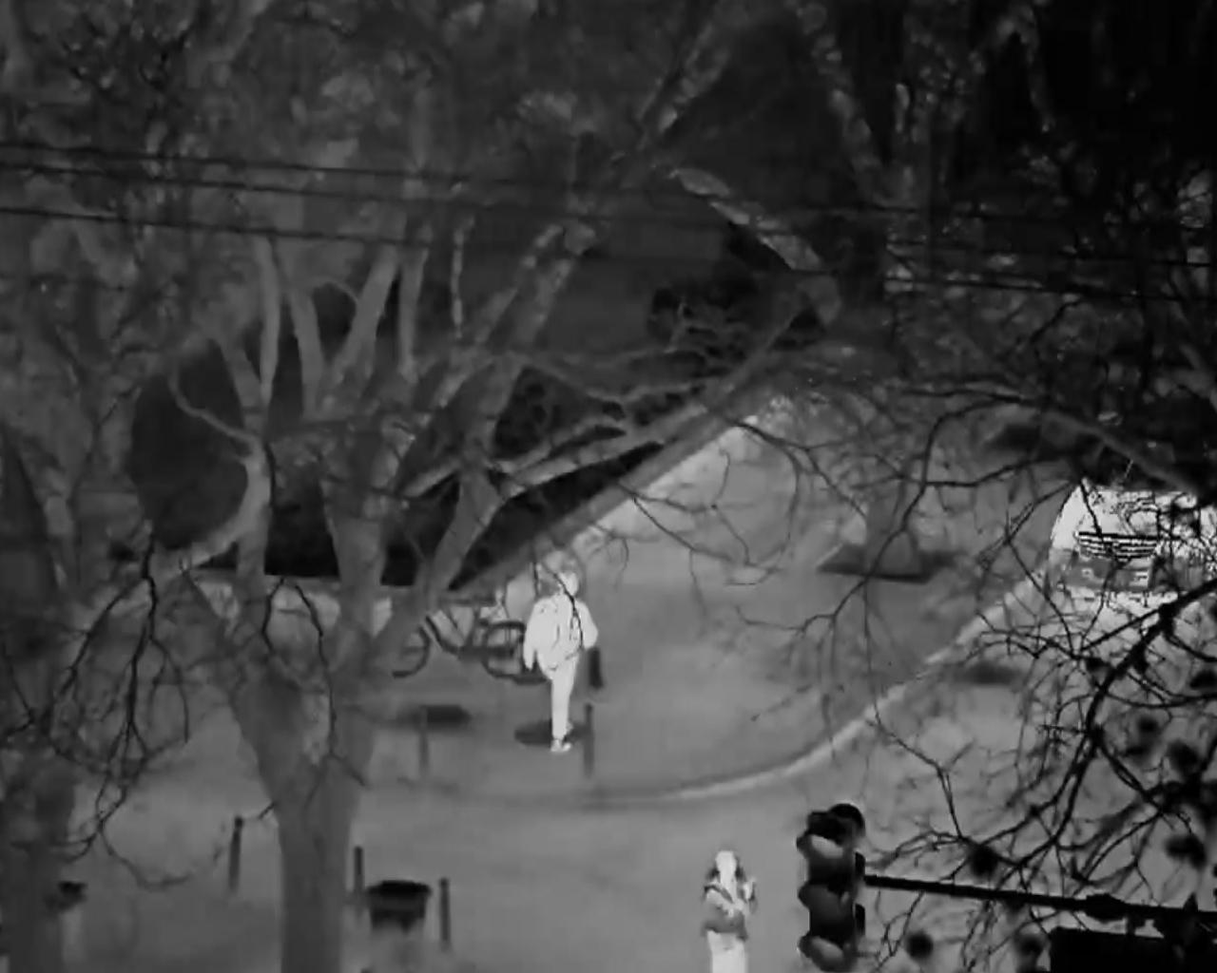person: (521, 571, 597, 752), (702, 847, 758, 973)
